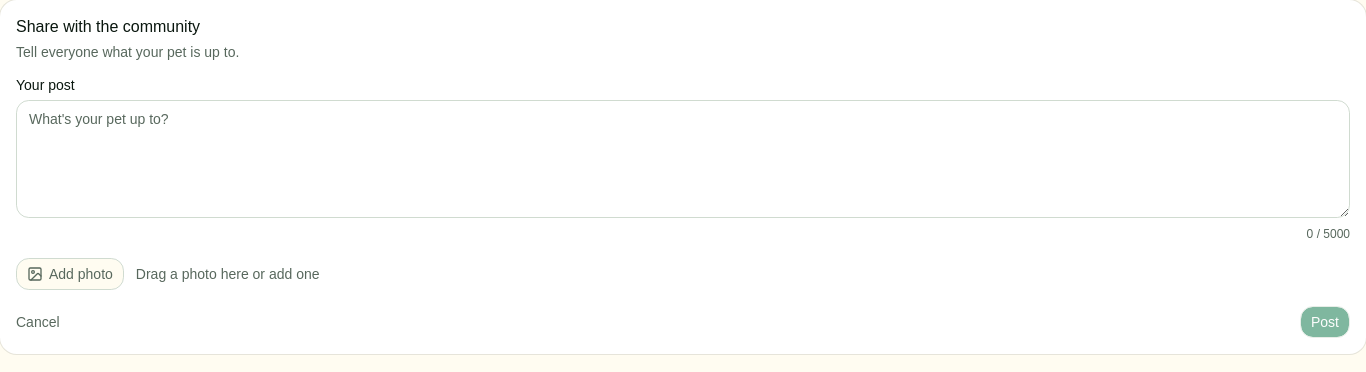
Test case: PostComposer › updates the character counter while typing
Type "Milo is napping" into the text box labelled "Your post" at (683, 159), box x1=16 y1=100 x2=1350 y2=218
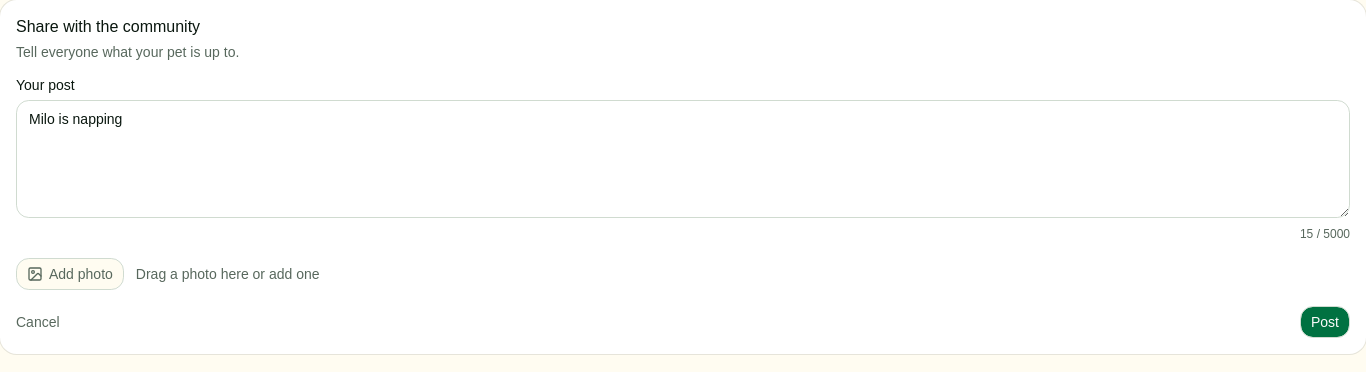
Expected: the text "15 / 5000" is shown, x1=1300 y1=227 x2=1350 y2=241
